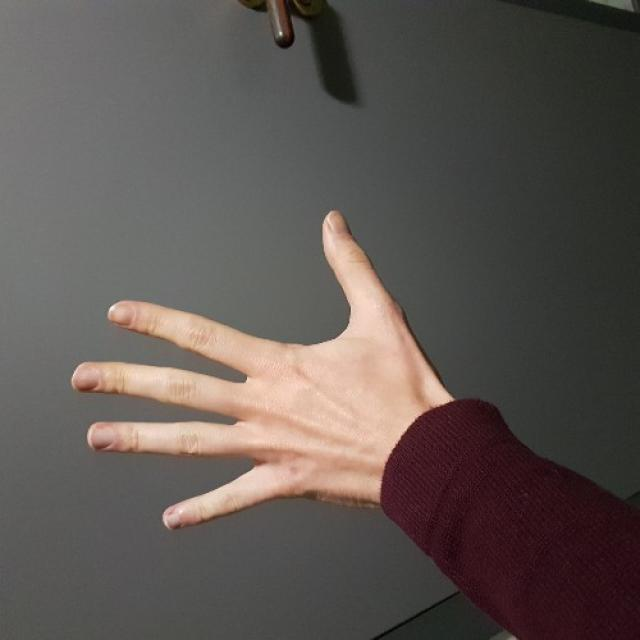paper: (72, 203, 400, 528)
